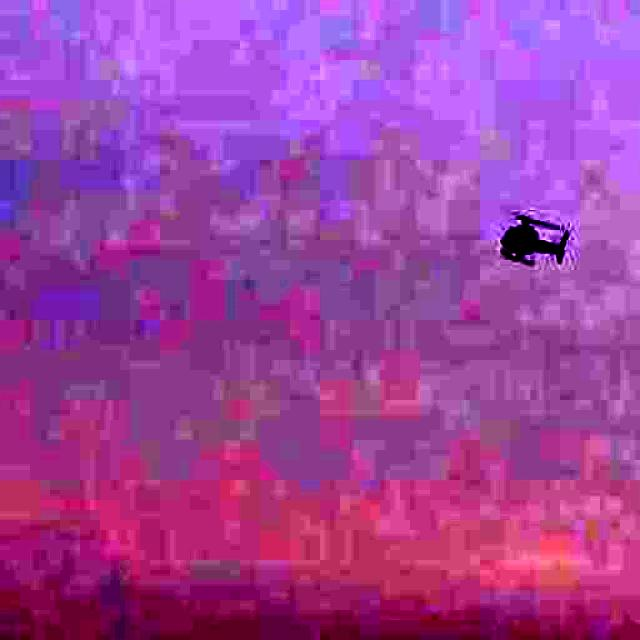drone: (475, 180, 588, 286)
